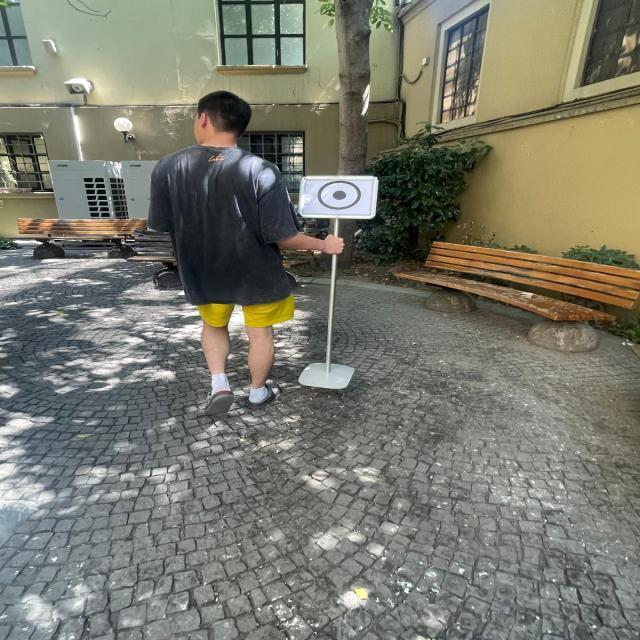Target: (290, 159, 388, 230)
inner: (328, 187, 351, 204)
